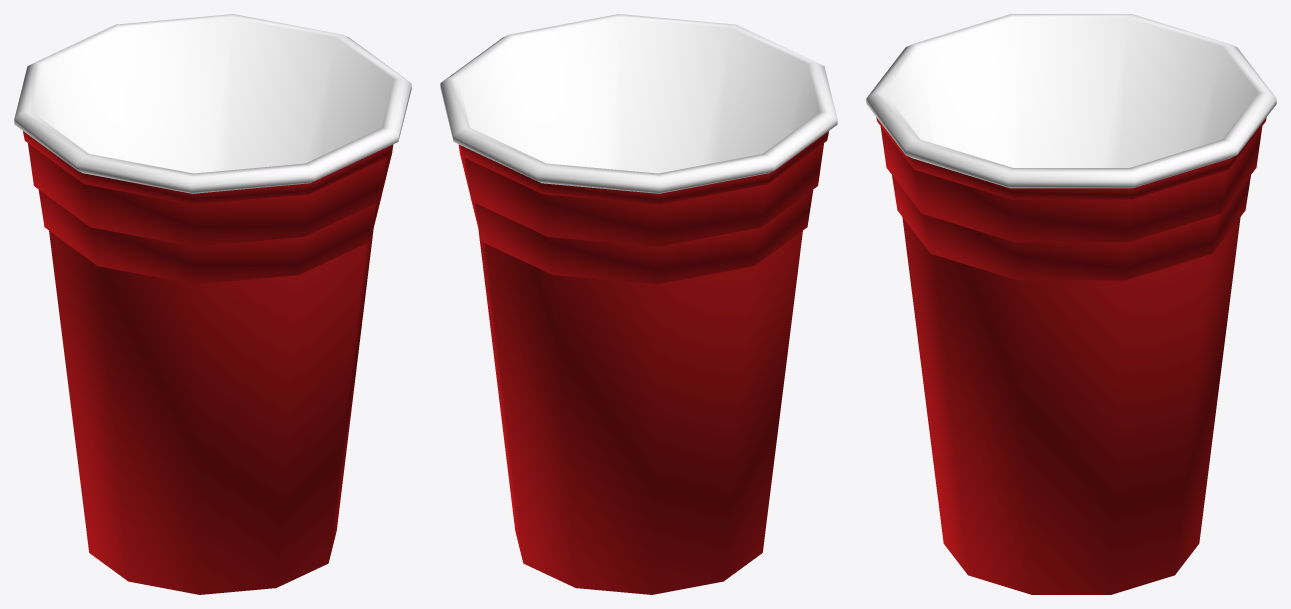
File: f63ca485-1fbd-4446-aa68-bf7e38acf078.glb
3 views of the same model, side by side, from view 1: azimuth 30°, elevation 25°; view 2: azimuth 150°, elevation 25°; view 3: azimuth 270°, elevation 25° (orthographic).
Parts seen in each view (by area): view 1: RedSoloCup; view 2: RedSoloCup; view 3: RedSoloCup.
Part boxes in pixels (<box>): RedSoloCup: <box>14,14,411,594</box>; RedSoloCup: <box>440,14,837,594</box>; RedSoloCup: <box>866,14,1276,594</box>.
Size of the model in its own units: 0.1234 by 0.1572 by 0.1297.
Materials: 1 (1 with a texture image).
